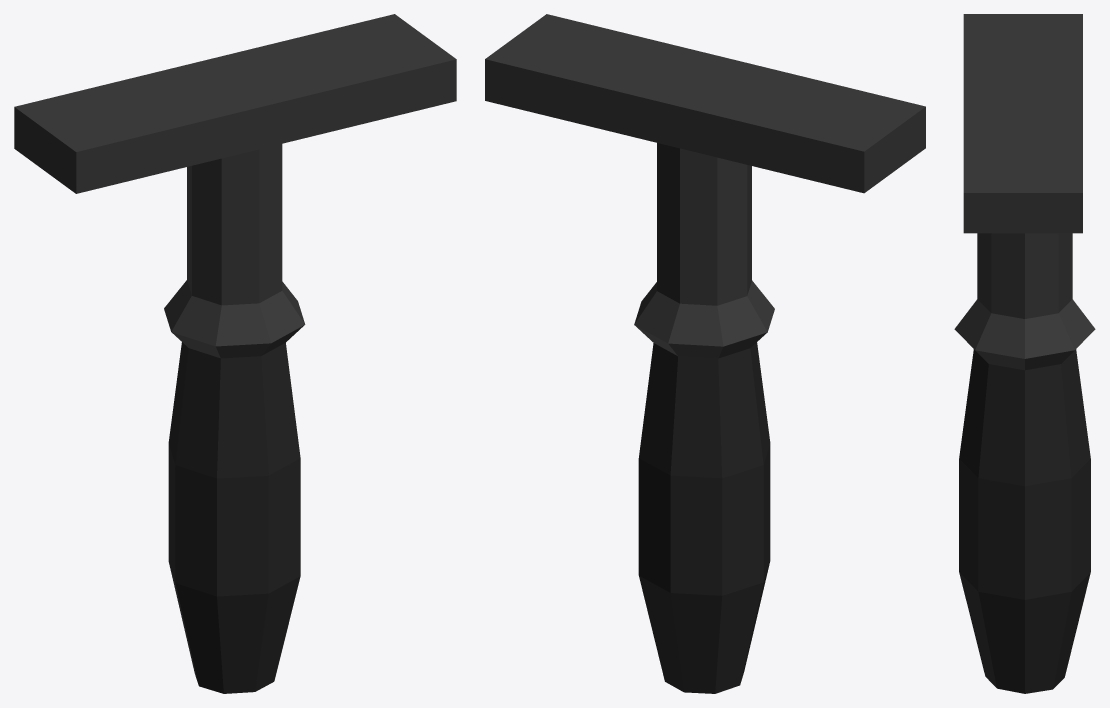
File: Accesories_Grip_V2.FBX
3 views of the same model, side by side, from view 1: azimuth 30°, elevation 25°; view 2: azimuth 150°, elevation 25°; view 3: azimuth 270°, elevation 25° (orthographic). The views are drawn at different scales.
Visible parts, largest first — view 1: Accesories_Grip_V2; view 2: Accesories_Grip_V2; view 3: Accesories_Grip_V2.
Boxes of the visible parts, left/top/right/bottom form: Accesories_Grip_V2: left=14, top=14, right=456, bottom=693; Accesories_Grip_V2: left=485, top=14, right=925, bottom=693; Accesories_Grip_V2: left=954, top=14, right=1095, bottom=693.
Bounding box in the file's own units: 45.96 × 68.77 × 15.31.
